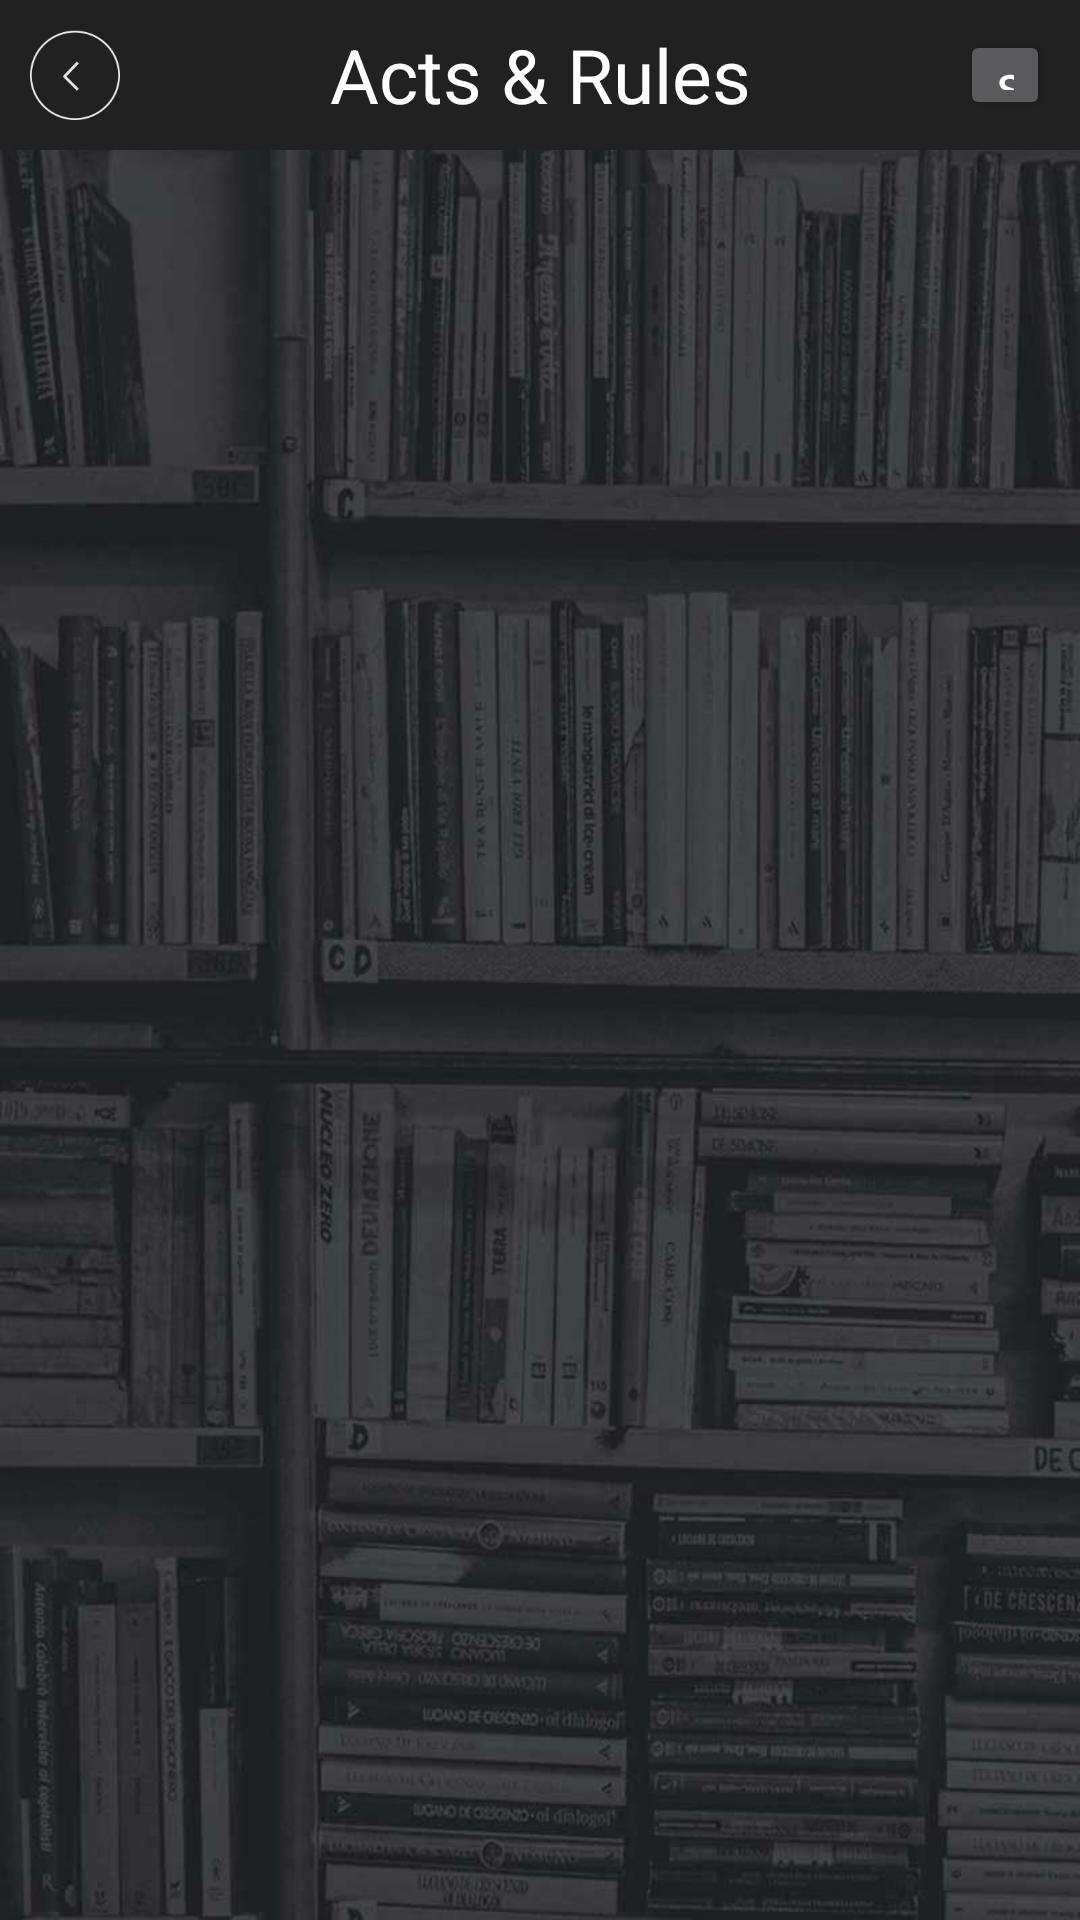

Screen size 1080×1920. Icon name, then its box in pixels as (x1, y1, x2, y2):
back: (30, 30, 120, 120)
